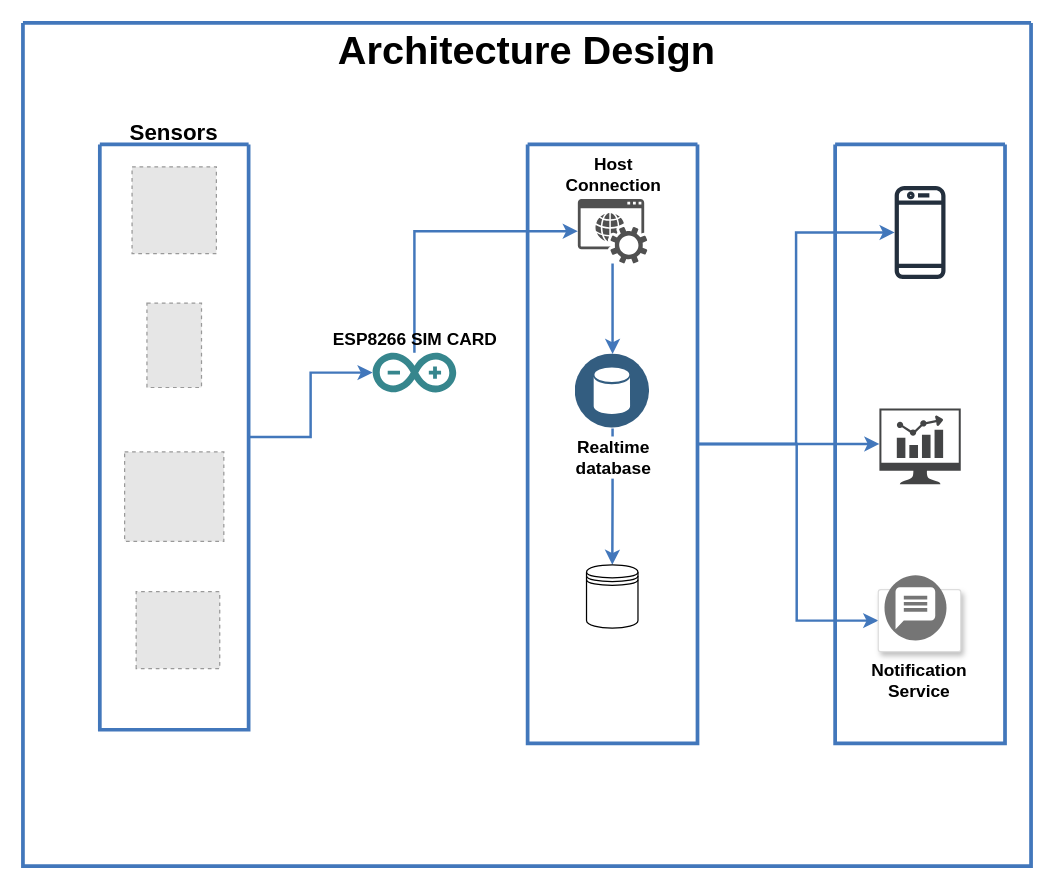
The diagram is 1054 pixels wide and 889 high, and some of its shapes have lost their labels. Grey dashed boxes stand in for pictures. Here are the shapes that lost their labels. From the top down, the centre of each, then its label:
At (x=919, y=232): "Mobile Web App".
At (x=919, y=446): "Dahsboards Power Bi".
At (x=611, y=596): "Historical Database".
